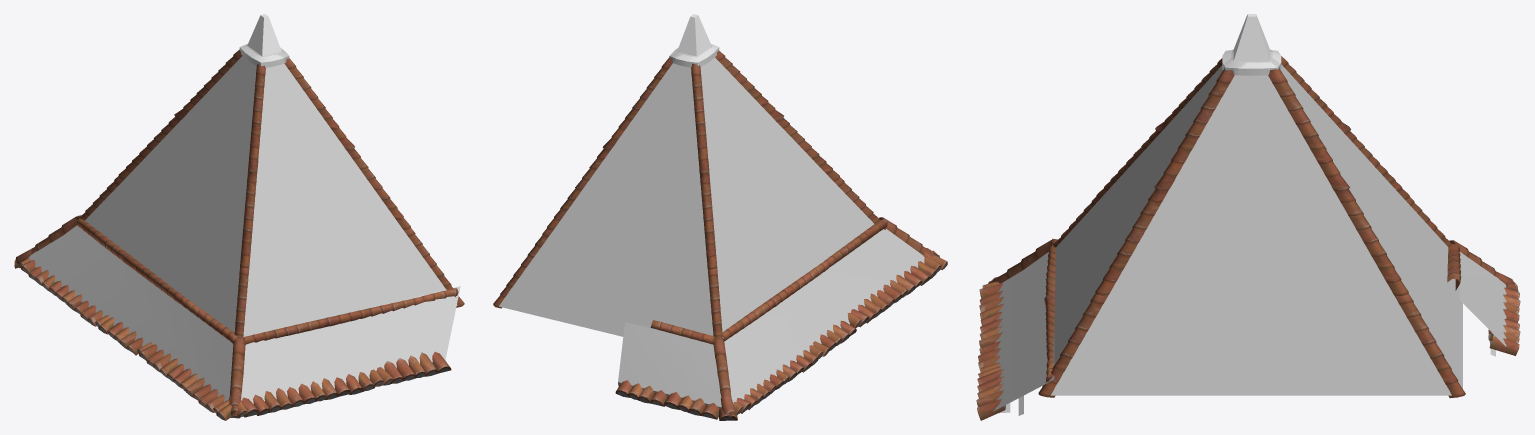
Rendered from SM_GeneralS_Roof_Medium.fbx.
3 views of the same model, side by side, from view 1: azimuth 30°, elevation 25°; view 2: azimuth 150°, elevation 25°; view 3: azimuth 270°, elevation 25° (orthographic). The views are drawn at different scales.
Visible parts, largest first — view 1: SM_GeneralS_Roof_Medium_LOD0; view 2: SM_GeneralS_Roof_Medium_LOD0; view 3: SM_GeneralS_Roof_Medium_LOD0.
Boxes of the visible parts, left/top/right/bottom form: SM_GeneralS_Roof_Medium_LOD0: left=14, top=14, right=464, bottom=420; SM_GeneralS_Roof_Medium_LOD0: left=493, top=14, right=947, bottom=420; SM_GeneralS_Roof_Medium_LOD0: left=976, top=14, right=1520, bottom=420.
Size of what is drawn, in the model's own units: 8.23 by 8.74 by 11.92.
